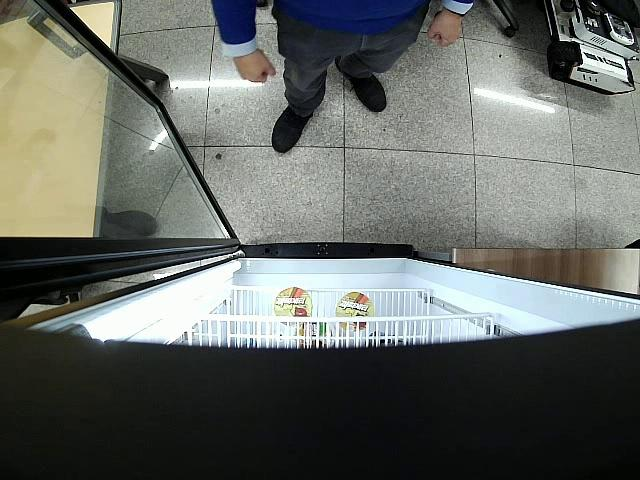00_hand: (233, 48, 276, 83), (427, 10, 462, 47)
